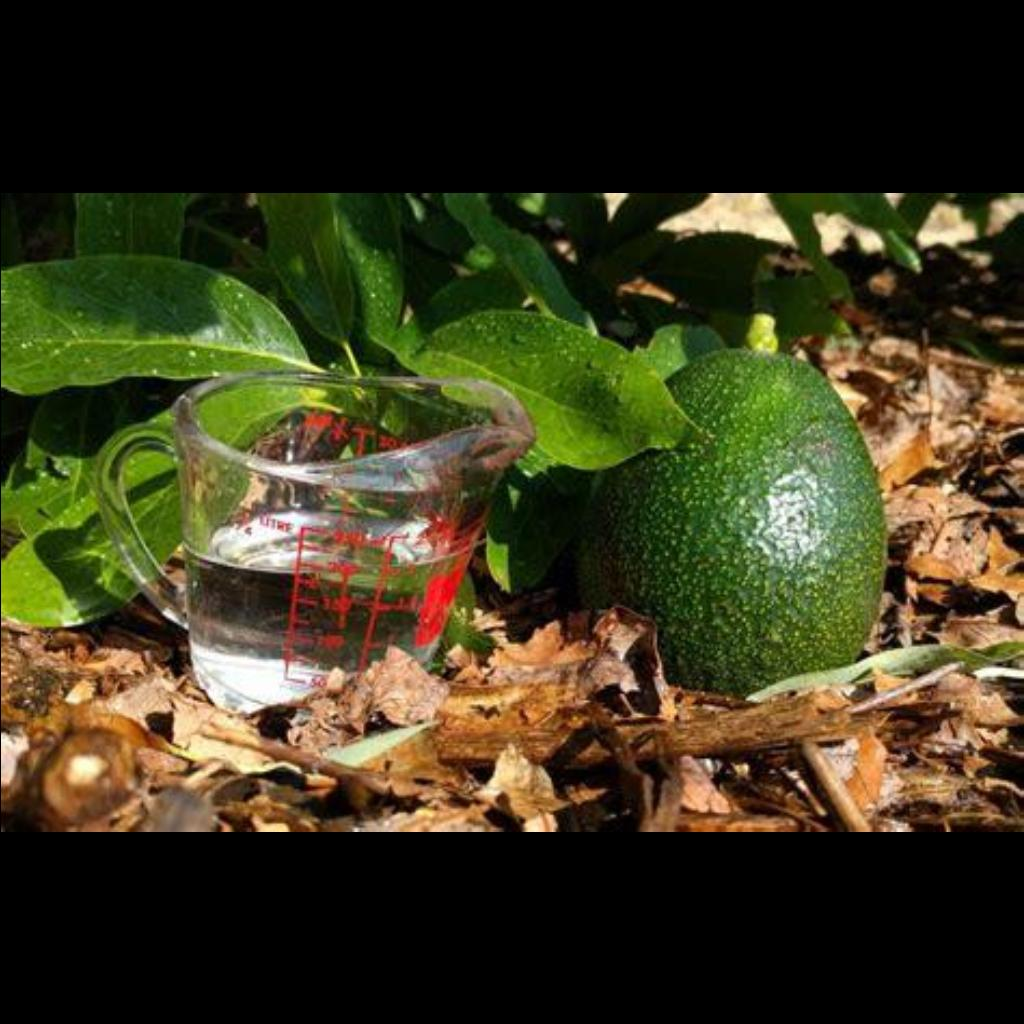fruto_sano: (594, 315, 922, 695)
